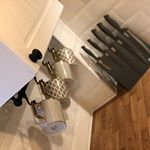cups: (29, 97, 68, 135), (38, 76, 74, 111), (43, 59, 76, 87)
